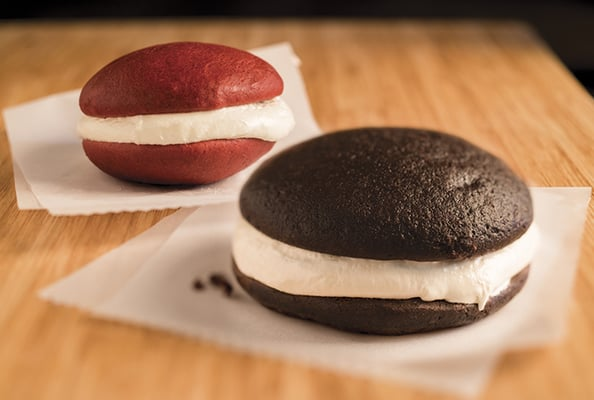soup: (229, 126, 539, 336)
